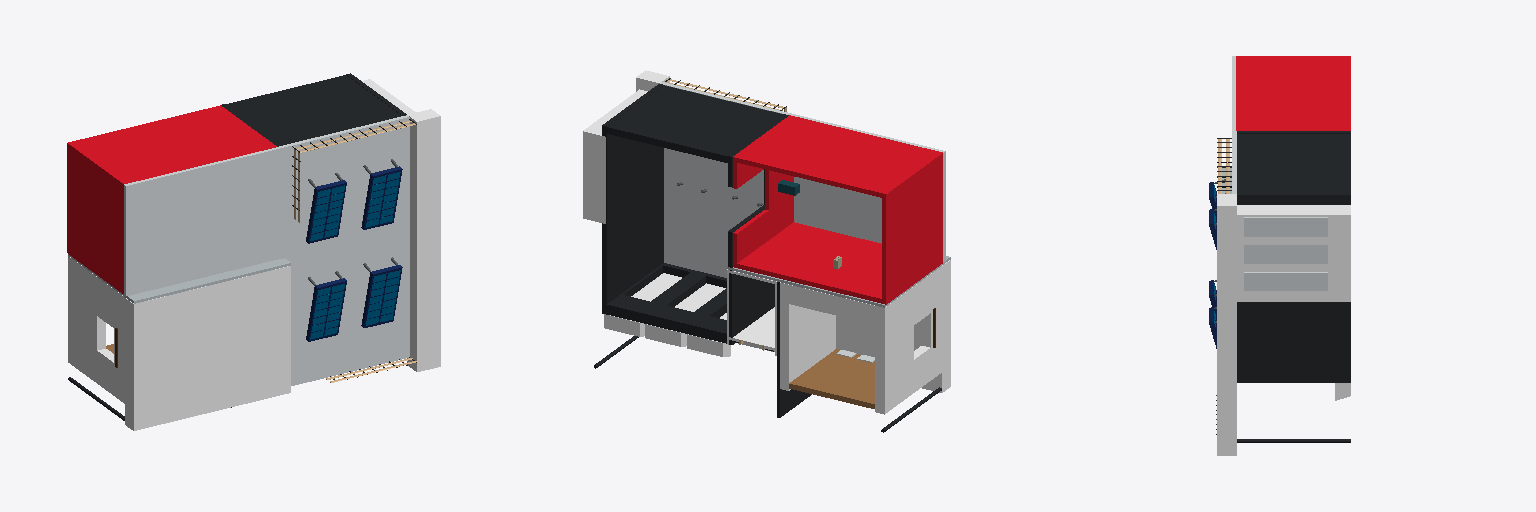
The model's file is tinker(1).obj.
3 renders of one model, left to right at view 1: azimuth 30°, elevation 25°; view 2: azimuth 150°, elevation 25°; view 3: azimuth 270°, elevation 25°, orthographic.
Parts seen in each view (by area): view 1: obj_0; view 2: obj_0; view 3: obj_0.
Part boxes in pixels (x1,y1,x2,y2): obj_0: (67, 73, 440, 430); obj_0: (583, 70, 950, 432); obj_0: (1209, 56, 1350, 455).
Size of the model in its own units: 36 by 28.04 by 14.44.